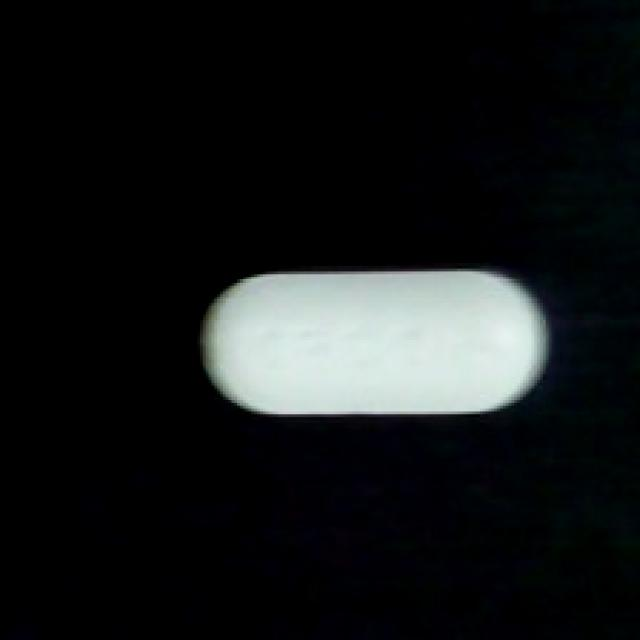no-defect: (197, 260, 551, 420)
